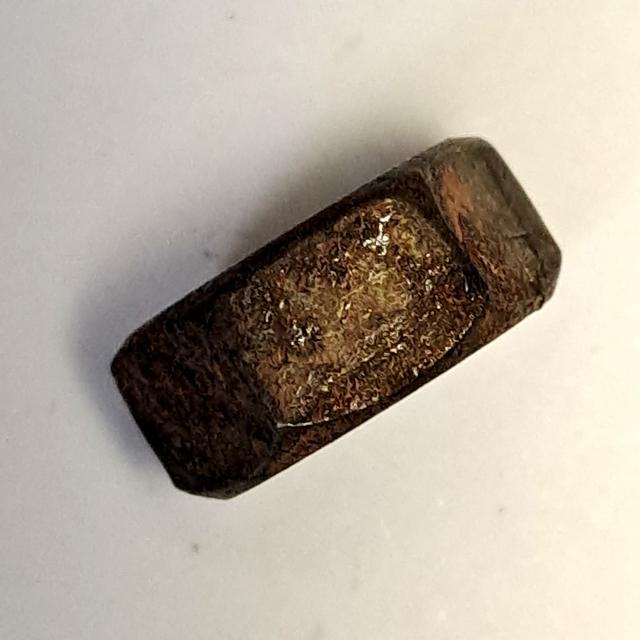Side_Rust: (106, 124, 575, 513)
